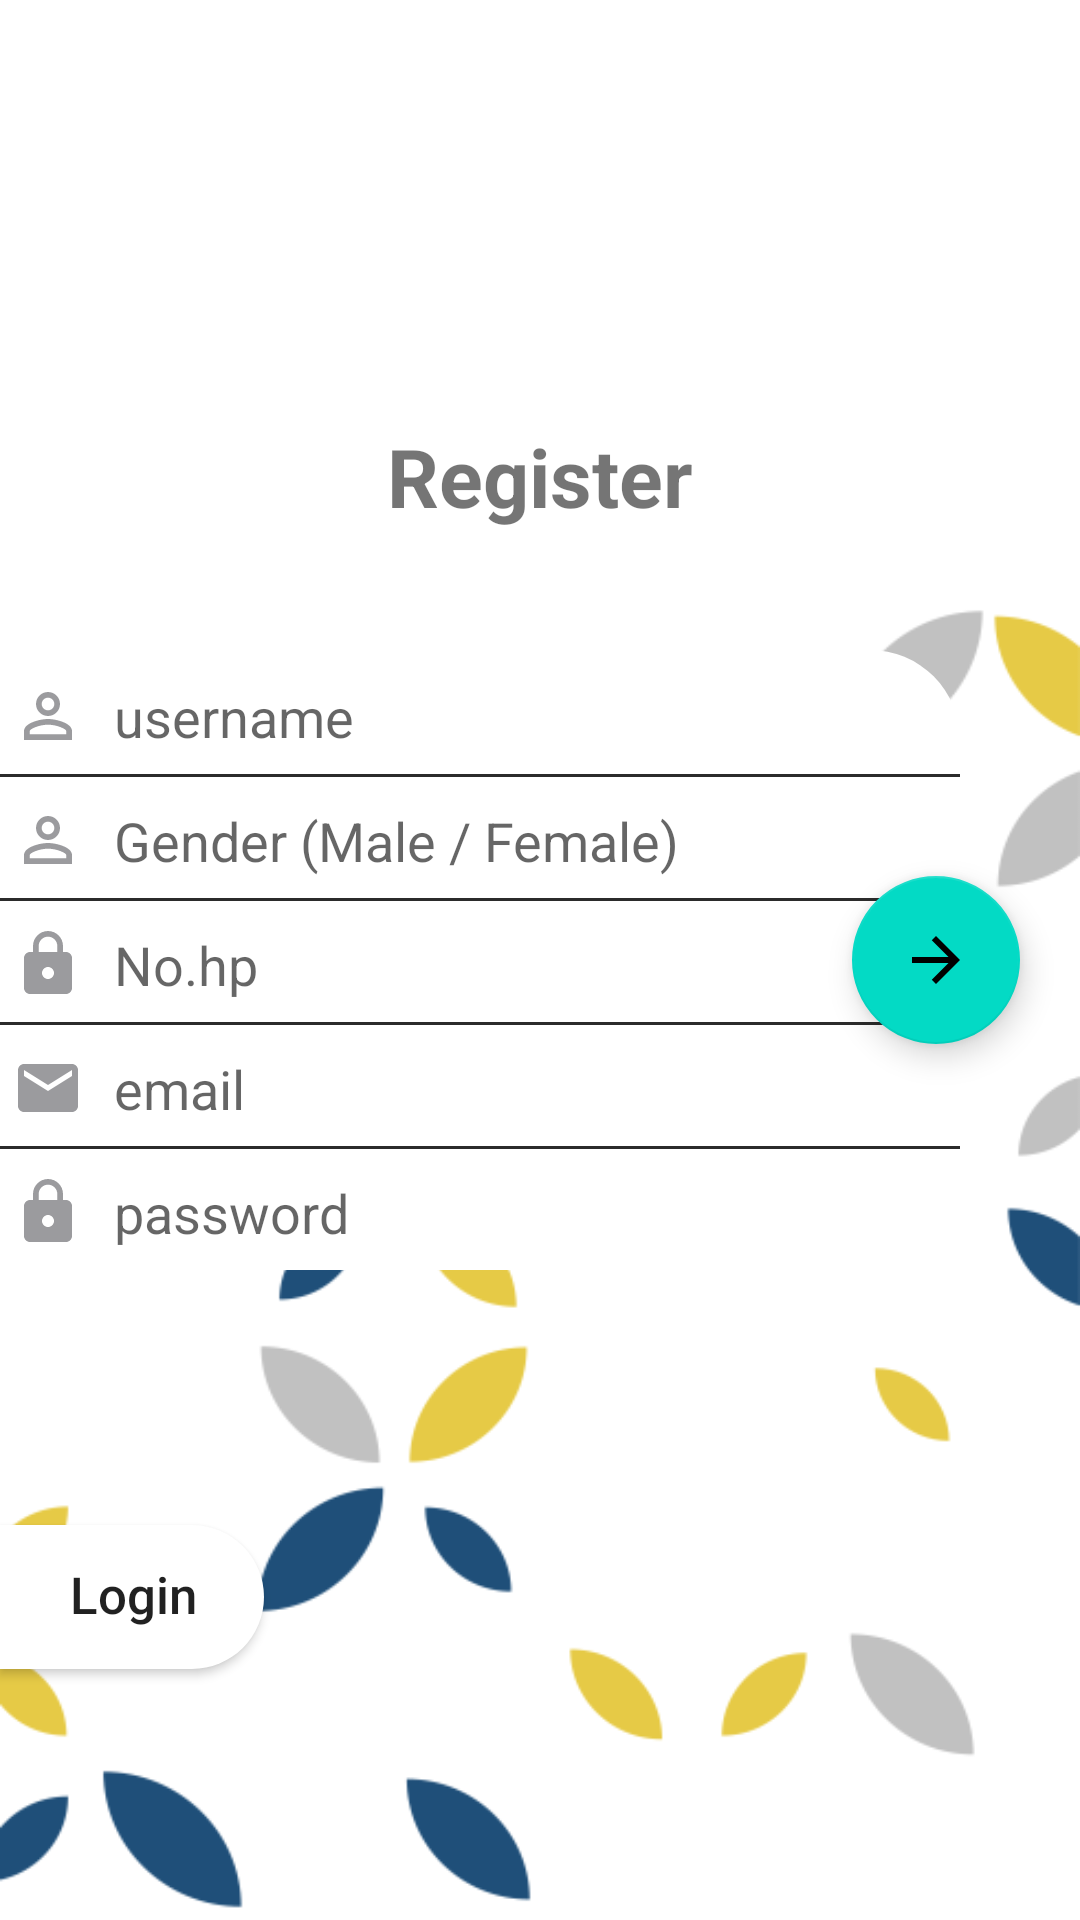

Named icons in this screenshot (1080 × 1920) and their centers, (x=x, y=y):
next: (x=936, y=960)
